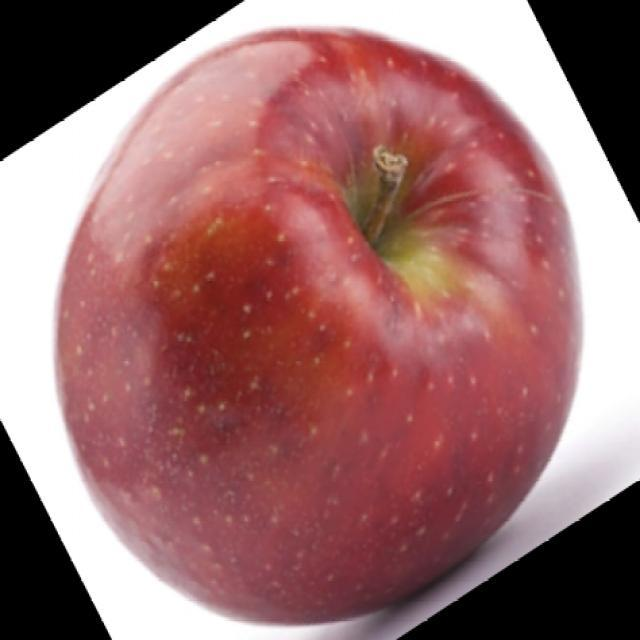Fresh Apple: (43, 23, 577, 585)
